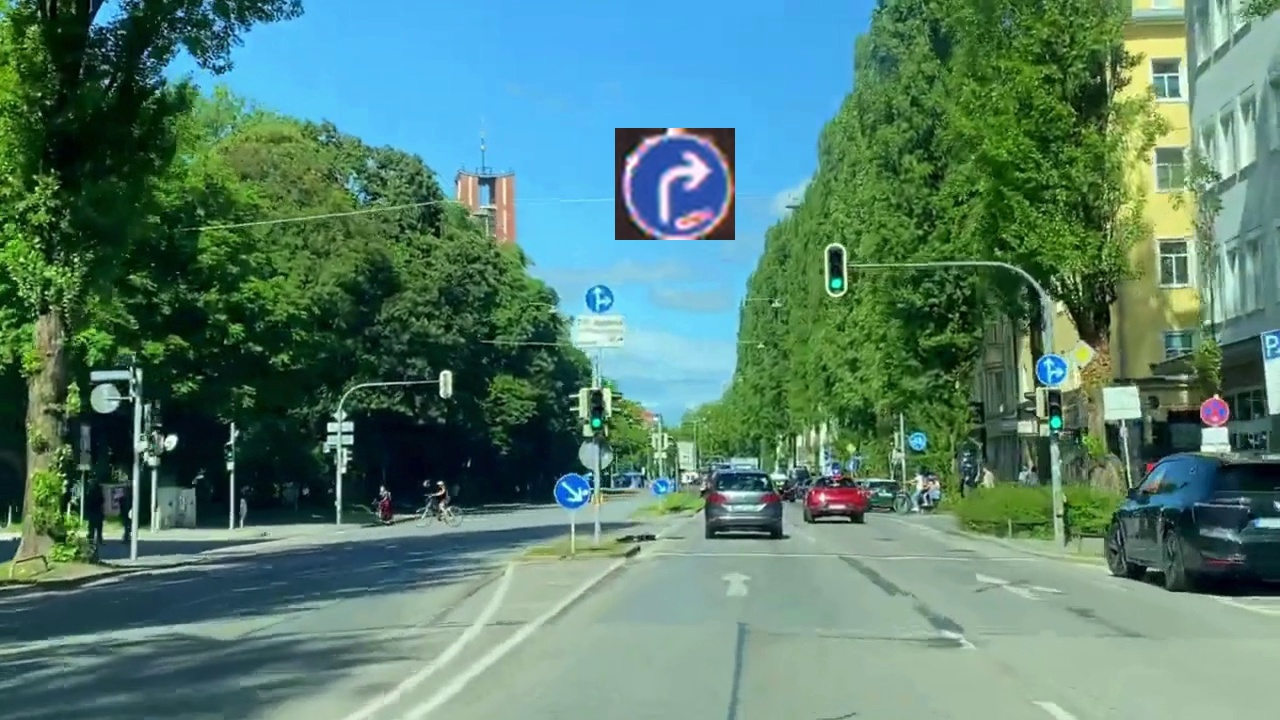Turn right: (615, 128, 735, 240)
